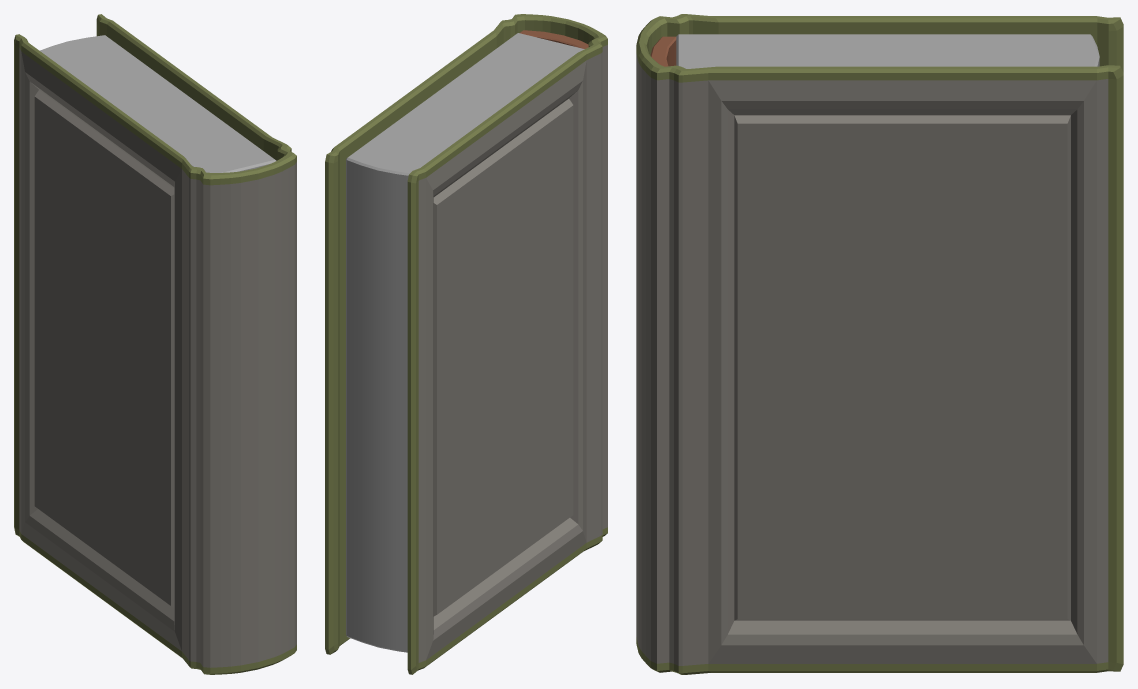
Rendered from Book_B.fbx.
The picture shows the model from 3 angles, left to right: view 1: azimuth 30°, elevation 25°; view 2: azimuth 150°, elevation 25°; view 3: azimuth 270°, elevation 25°; orthographic projection. The views are drawn at different scales.
Parts seen in each view (by area): view 1: BookD; view 2: BookD; view 3: BookD.
Part boxes in pixels (x1,y1,x2,y2): BookD: (14, 14, 296, 674); BookD: (325, 14, 607, 674); BookD: (636, 14, 1123, 674).
Size of the model in its own units: 0.1365 by 0.6458 by 0.4723.
